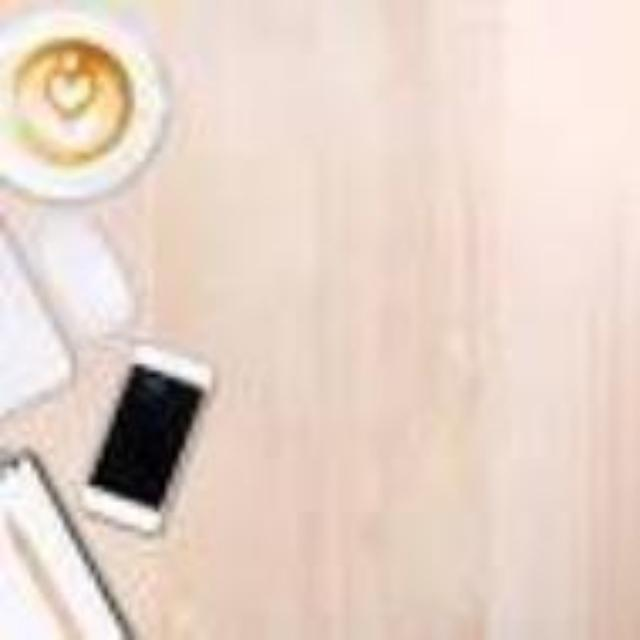phone: (76, 299, 225, 569)
